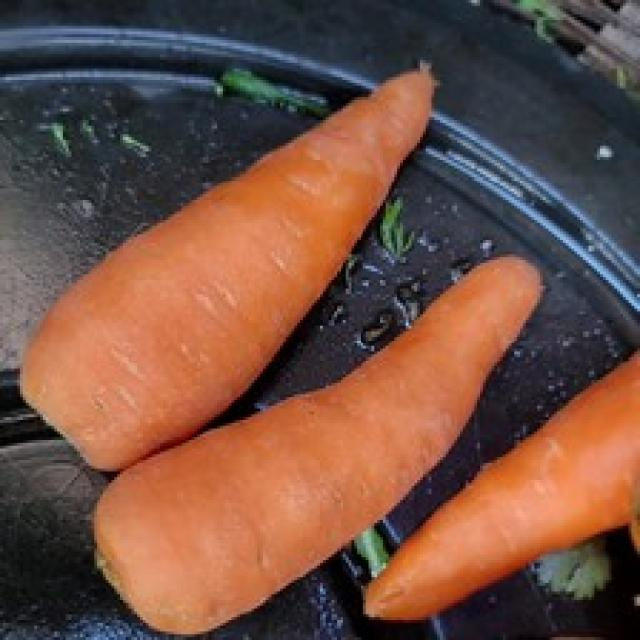Fresh_Carrot: (95, 258, 536, 633), (22, 74, 431, 469), (368, 352, 640, 619), (461, 258, 541, 343)
